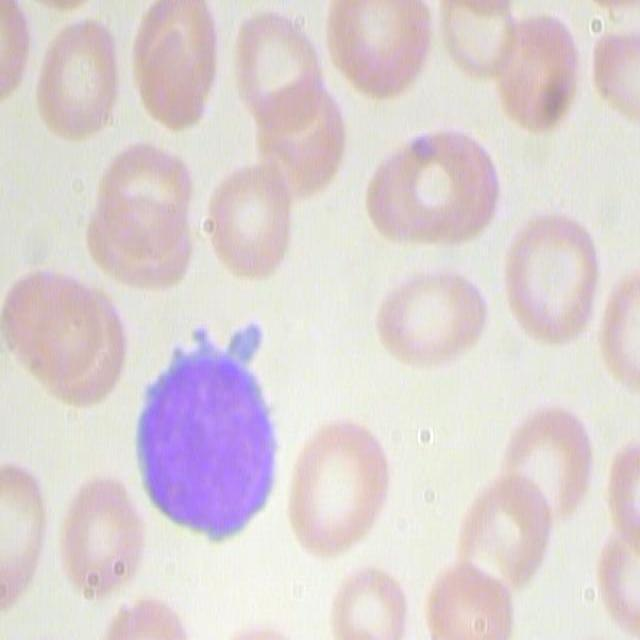RBC: (279, 413, 396, 563), (504, 208, 609, 353), (361, 126, 479, 250), (228, 6, 331, 138), (447, 473, 554, 598), (373, 255, 491, 366), (203, 157, 302, 284), (487, 9, 586, 136), (29, 16, 128, 143), (1, 261, 106, 380), (96, 136, 200, 256), (126, 1, 221, 132), (499, 404, 600, 527), (325, 1, 433, 106), (59, 471, 142, 600), (419, 550, 512, 640)
WBC: (117, 306, 295, 554)
